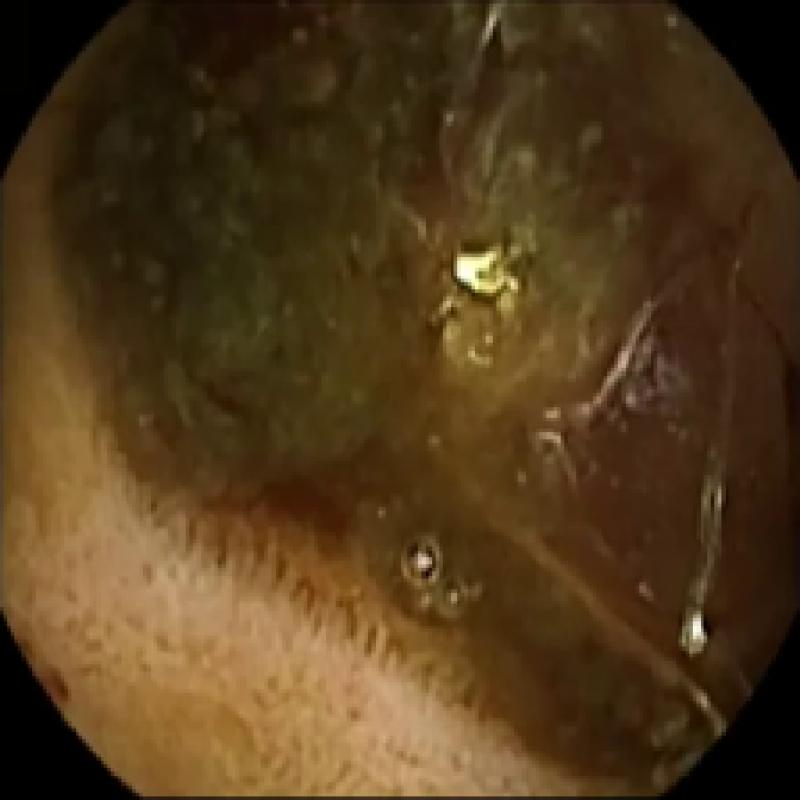bleeding: (196, 0, 296, 64), (270, 469, 358, 538), (760, 300, 800, 440)
